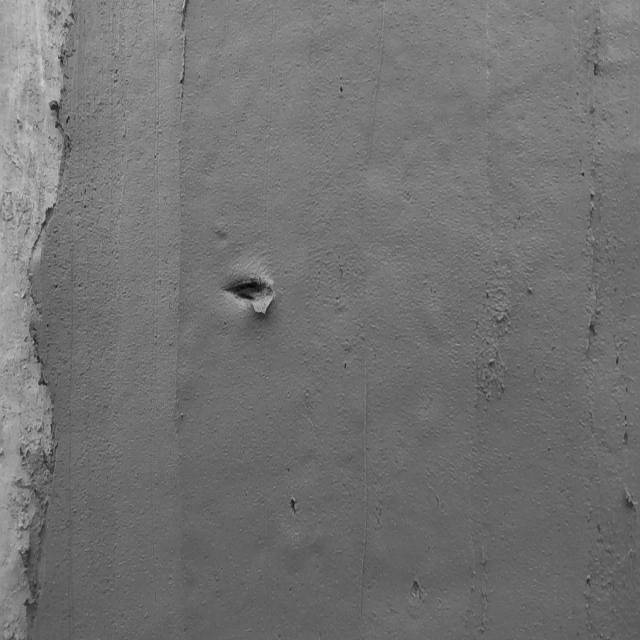trowels marks: (178, 0, 190, 114)
